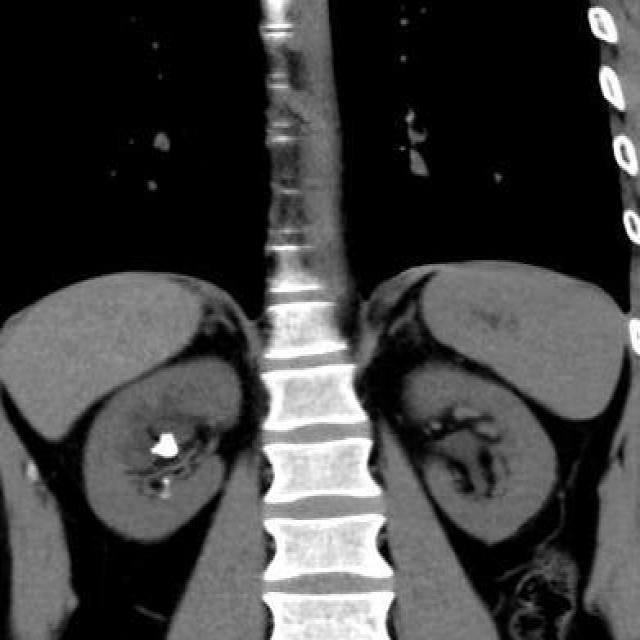Tas_Var: (148, 430, 184, 460), (156, 489, 176, 499), (160, 474, 173, 486)
